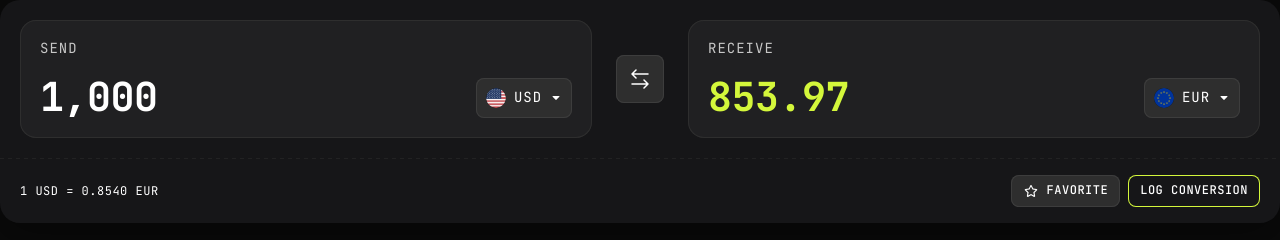
Scenario: Converter › keeps the send amount in place when currencies are swapped
This screenshot has width=1280, height=240.
Replace the text in the field named "Amount" below "Send" with "100" at {"x": 99, "y": 97}, box [40, 77, 158, 118]
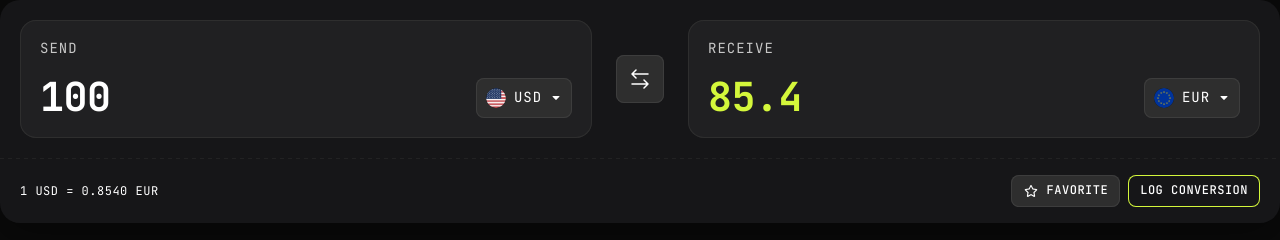
Click the button named "Exchange currencies" at {"x": 640, "y": 79}, box [616, 55, 664, 103]
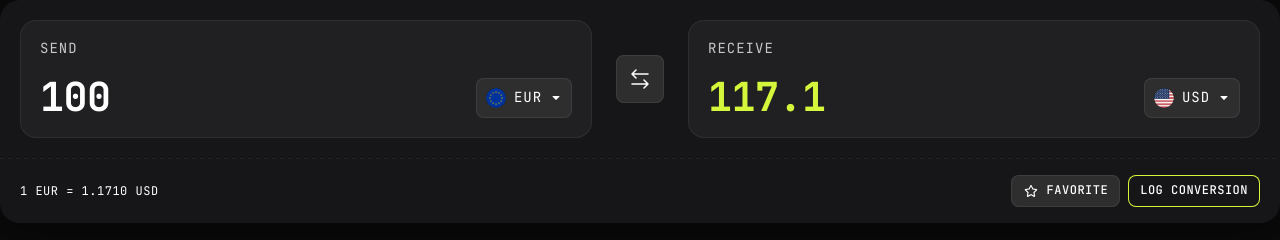
Check: the field named "Amount" below "Receive" holds "117.1", box [708, 77, 826, 118]
